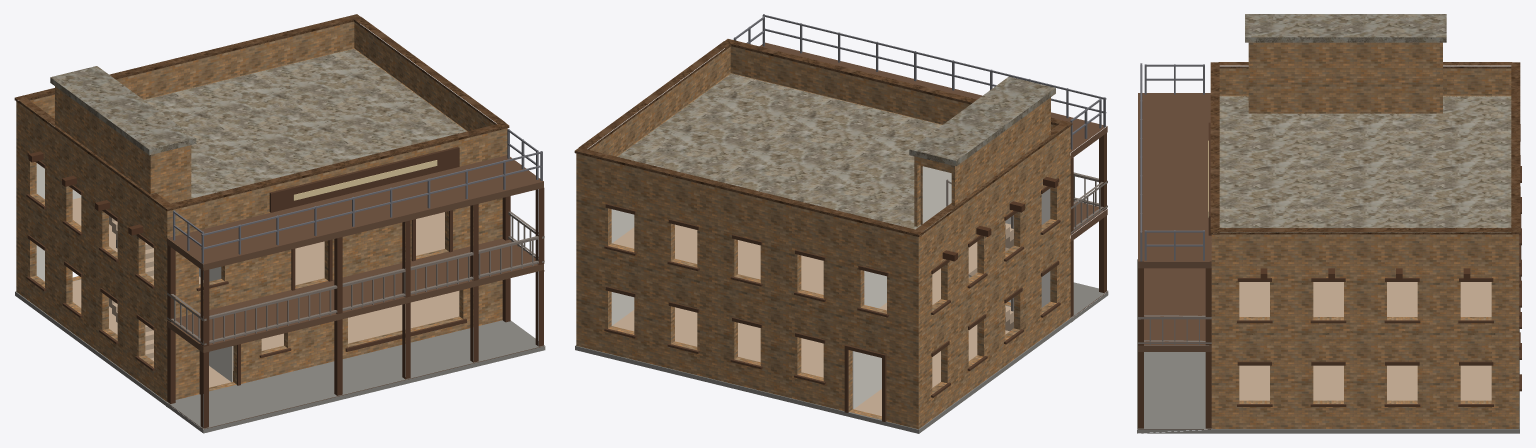
File: cr-trading-post.towns-v2.lod0.glb
3 views of the same model, side by side, from view 1: azimuth 30°, elevation 25°; view 2: azimuth 150°, elevation 25°; view 3: azimuth 270°, elevation 25° (orthographic).
Visible parts, largest first — view 1: cr-trading-post; view 2: cr-trading-post; view 3: cr-trading-post.
Part boxes in pixels (x1,y1,x2,y2): cr-trading-post: (14, 14, 545, 433); cr-trading-post: (574, 14, 1108, 433); cr-trading-post: (1137, 14, 1521, 433).
Bounding box in the file's own units: 13.9 × 8.98 × 12.52.
Materials: 5 (2 with a texture image).
